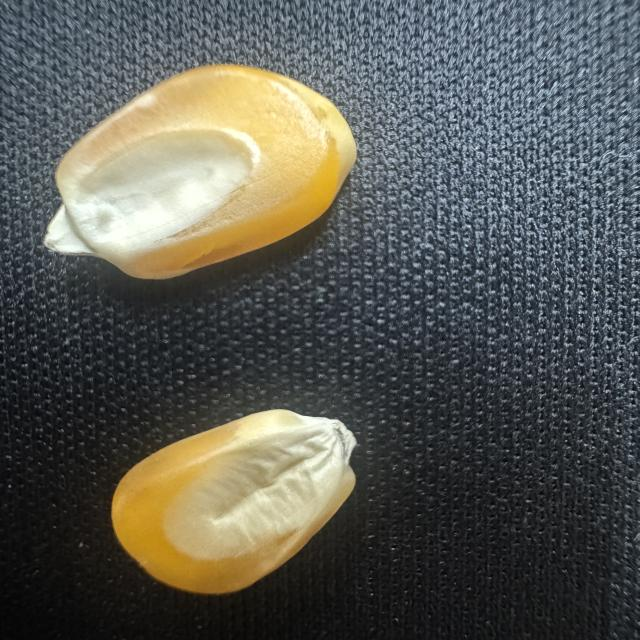Good-Seed: (34, 55, 362, 288), (98, 399, 370, 601)
